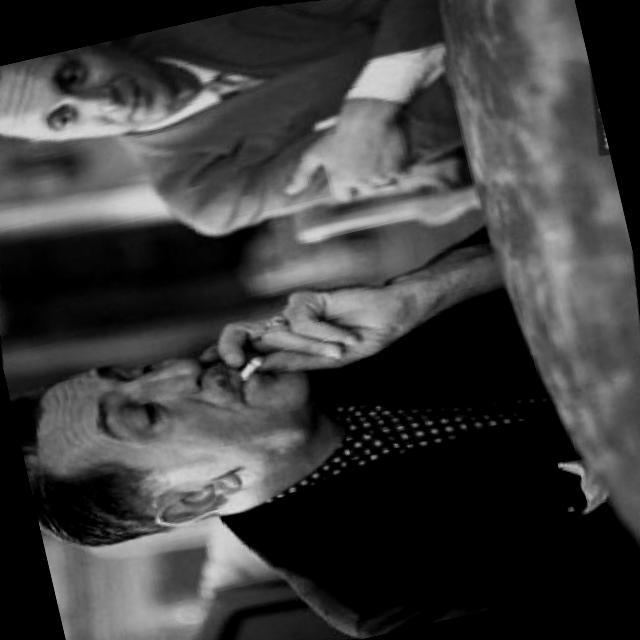cigarette: (232, 348, 274, 384)
